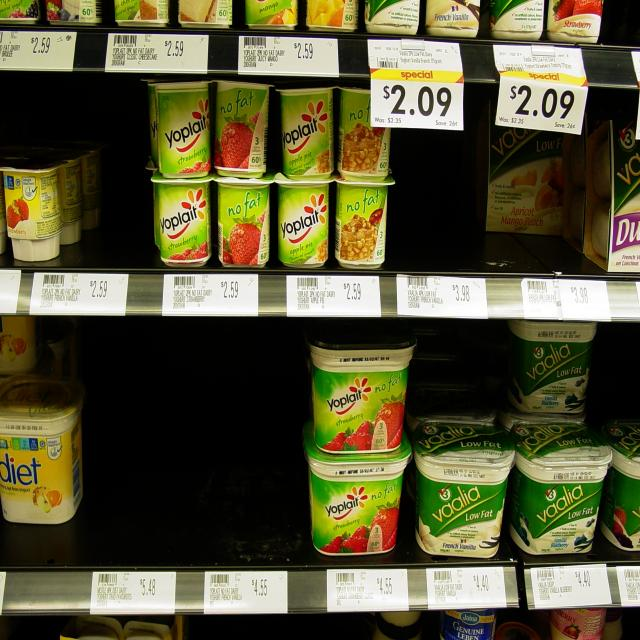empty_space: (94, 325, 304, 560), (395, 134, 485, 270), (83, 83, 149, 265), (5, 78, 83, 162), (417, 334, 499, 404), (490, 232, 582, 274), (597, 326, 640, 409)
